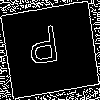P: (25, 25, 63, 76)
